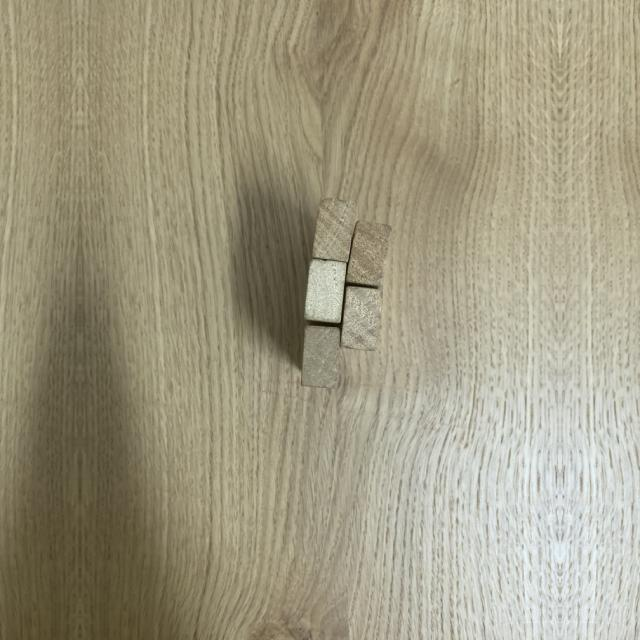jenga: (313, 197, 358, 263), (349, 220, 391, 288), (305, 260, 346, 325), (342, 286, 382, 347), (304, 327, 341, 390)
